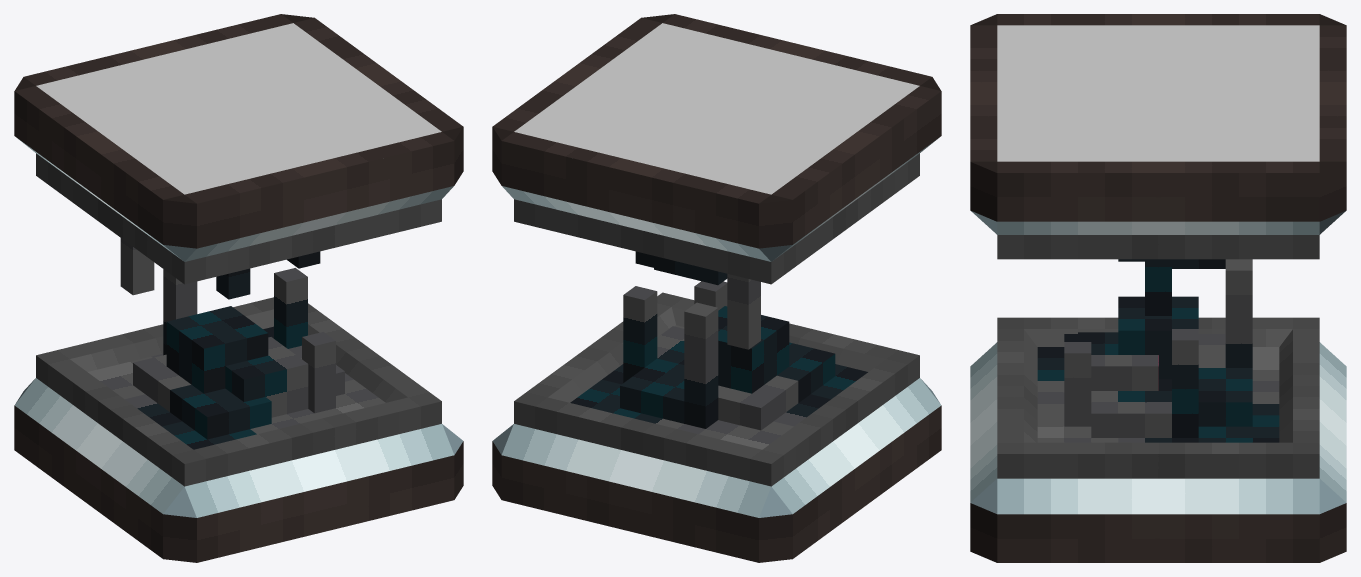
File: terrarium_ominous.obj
3 views of the same model, side by side, from view 1: azimuth 30°, elevation 25°; view 2: azimuth 150°, elevation 25°; view 3: azimuth 270°, elevation 25° (orthographic). The views are drawn at different scales.
Visible parts, largest first — view 1: TERRARIUM_BASE_SMALLER_LID_Cube.030, TERRARIUM_BASE_SMALLER_Cube.015, TERRAIN_OMINOUS_Cube.032; view 2: TERRARIUM_BASE_SMALLER_LID_Cube.030, TERRARIUM_BASE_SMALLER_Cube.015, TERRAIN_OMINOUS_Cube.032; view 3: TERRARIUM_BASE_SMALLER_LID_Cube.030, TERRARIUM_BASE_SMALLER_Cube.015, TERRAIN_OMINOUS_Cube.032.
Part boxes in pixels (x1,y1,x2,y2): TERRARIUM_BASE_SMALLER_LID_Cube.030: [14, 14, 463, 284]; TERRARIUM_BASE_SMALLER_Cube.015: [14, 297, 463, 562]; TERRAIN_OMINOUS_Cube.032: [88, 238, 385, 449]; TERRARIUM_BASE_SMALLER_LID_Cube.030: [492, 14, 941, 284]; TERRARIUM_BASE_SMALLER_Cube.015: [492, 292, 941, 562]; TERRAIN_OMINOUS_Cube.032: [570, 251, 867, 449]; TERRARIUM_BASE_SMALLER_LID_Cube.030: [970, 14, 1346, 259]; TERRARIUM_BASE_SMALLER_Cube.015: [970, 317, 1346, 562]; TERRAIN_OMINOUS_Cube.032: [1037, 259, 1279, 442].
Bounding box in the file's own units: 0.875 × 1 × 0.875.
